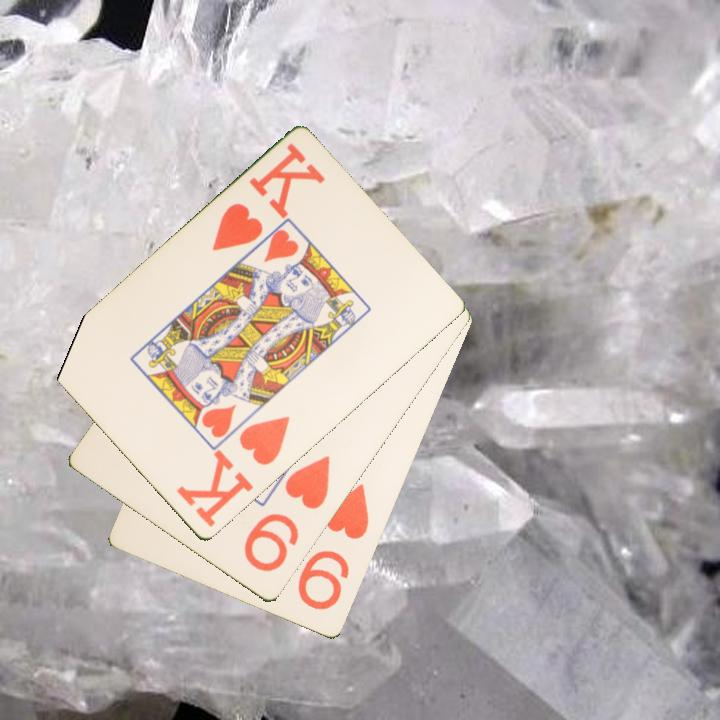9h: (240, 452, 333, 576), (294, 480, 373, 614)
Kh: (172, 413, 293, 531), (208, 140, 328, 255)
